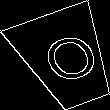O_SE: (30, 27, 101, 91)
